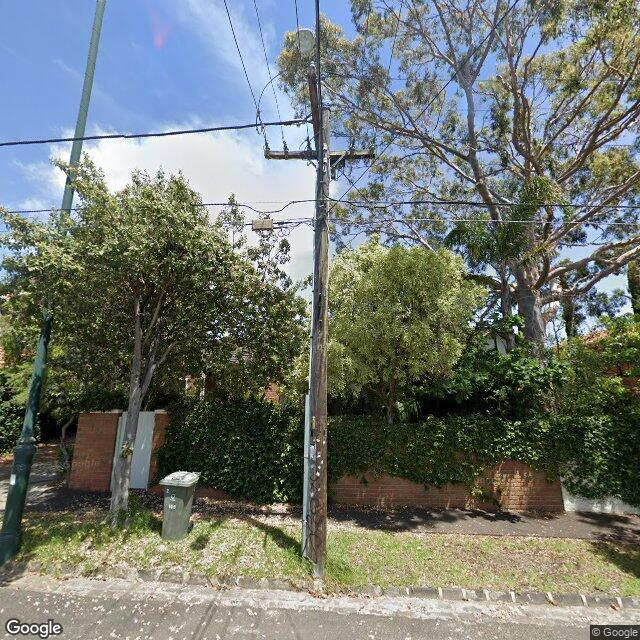crossarm: (306, 64, 323, 150), (262, 148, 378, 160)
streetlight: (295, 28, 318, 68)
timber-pole: (306, 105, 332, 566)
